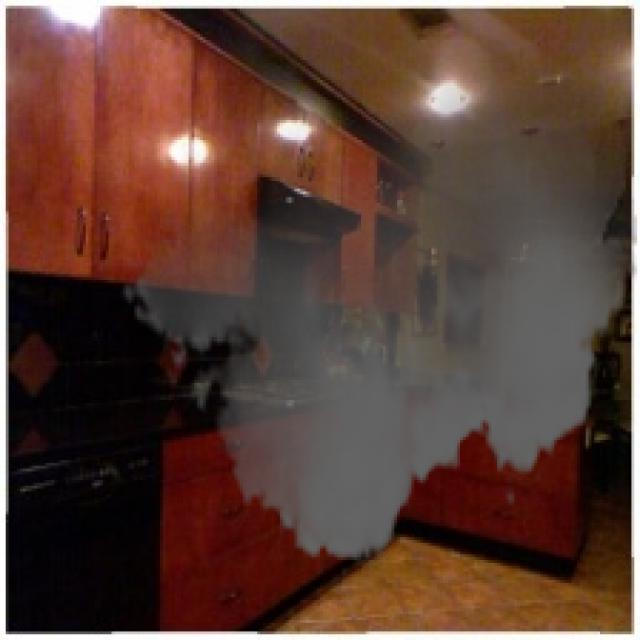Smoke: (120, 34, 637, 580)
